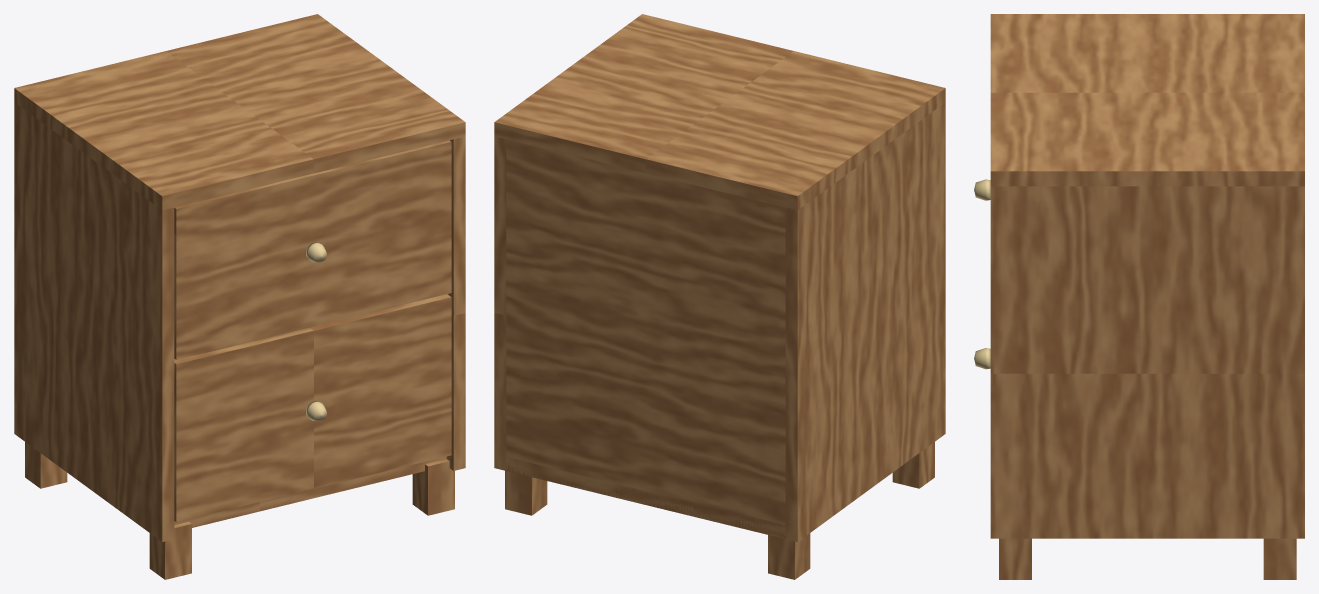
3 renders of one model, left to right at view 1: azimuth 30°, elevation 25°; view 2: azimuth 150°, elevation 25°; view 3: azimuth 270°, elevation 25°, orthographic. The views are drawn at different scales.
Visible parts, largest first — view 1: Bedside table, two drawers; view 2: Bedside table, two drawers; view 3: Bedside table, two drawers.
Boxes of the visible parts, x1,y1,x2,y2 form: Bedside table, two drawers: (14, 14, 465, 579); Bedside table, two drawers: (494, 14, 945, 579); Bedside table, two drawers: (974, 14, 1304, 579).
Bounding box in the file's own units: 0.45 × 0.55 × 0.4.
Materials: 2 (1 with a texture image).
